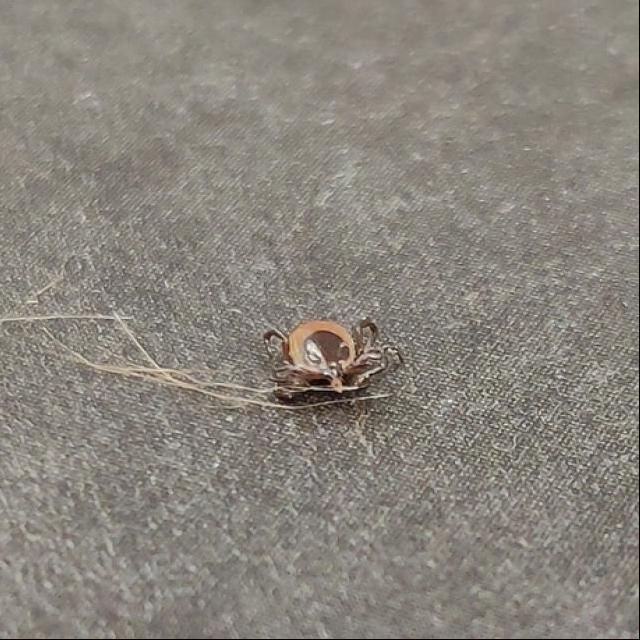Ixodes Ricinus-F: (258, 320, 406, 408)
